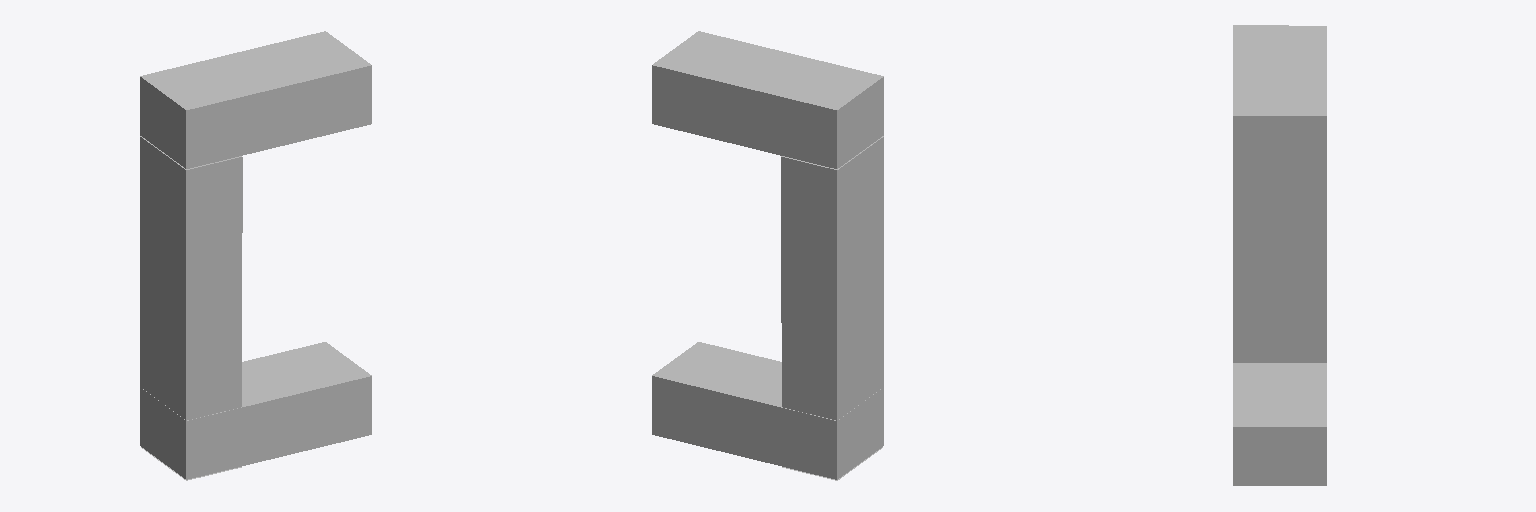
The model's file is Barriers_easy_robot_blender.obj.
3 renders of one model, left to right at view 1: azimuth 30°, elevation 25°; view 2: azimuth 150°, elevation 25°; view 3: azimuth 270°, elevation 25°, orthographic.
Parts seen in each view (by area): view 1: instance_0.001_ID14.001, instance_0_ID4.002, instance_0.002_ID20.001; view 2: instance_0.001_ID14.001, instance_0_ID4.002, instance_0.002_ID20.001; view 3: instance_0.001_ID14.001, instance_0_ID4.002, instance_0.002_ID20.001.
Part boxes in pixels (left/top/right/bottom): instance_0.001_ID14.001: left=140, top=136, right=242, bottom=420; instance_0_ID4.002: left=140, top=31, right=371, bottom=168; instance_0.002_ID20.001: left=140, top=342, right=371, bottom=479; instance_0.001_ID14.001: left=781, top=136, right=883, bottom=420; instance_0_ID4.002: left=652, top=31, right=883, bottom=168; instance_0.002_ID20.001: left=652, top=342, right=883, bottom=479; instance_0.001_ID14.001: left=1233, top=175, right=1326, bottom=362; instance_0_ID4.002: left=1233, top=25, right=1326, bottom=174; instance_0.002_ID20.001: left=1233, top=363, right=1326, bottom=485.
Bounding box in the file's own units: 34.43 × 65.57 × 15.07.